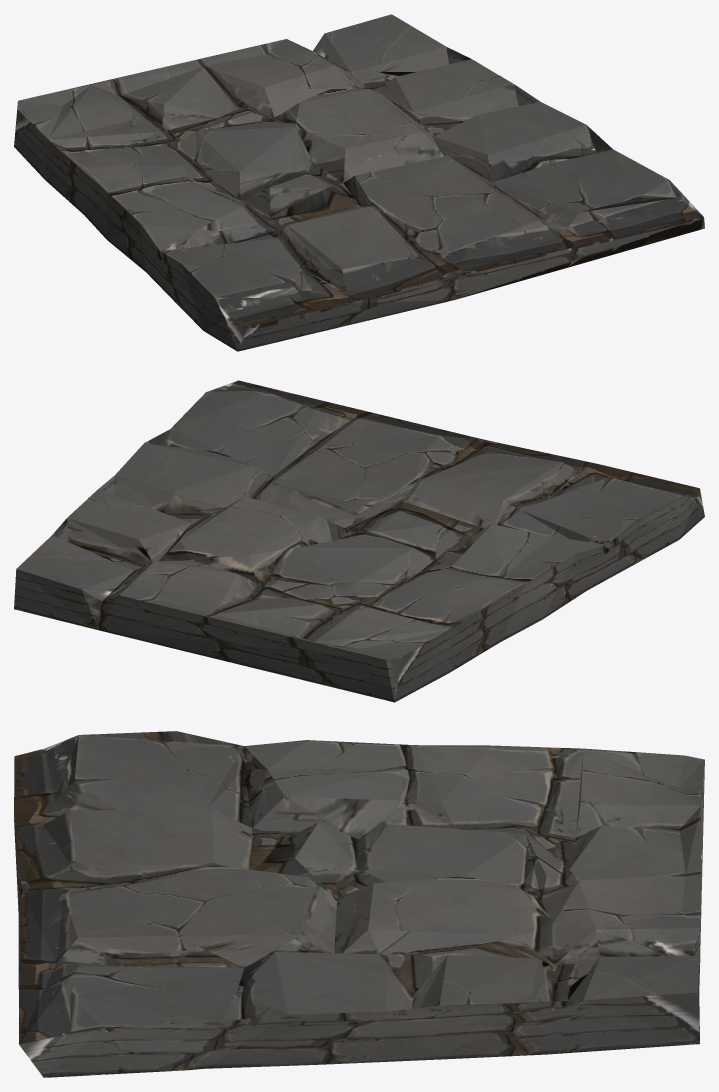
The model's file is SM_Dungeon_Floor_A_LOD2.glb.
3 renders of one model, top to bottom at view 1: azimuth 30°, elevation 25°; view 2: azimuth 150°, elevation 25°; view 3: azimuth 270°, elevation 25°, orthographic. The views are drawn at different scales.
Parts seen in each view (by area): view 1: SM_Dungeon_Floor_A_LOD2; view 2: SM_Dungeon_Floor_A_LOD2; view 3: SM_Dungeon_Floor_A_LOD2.
Part boxes in pixels (x1,y1,x2,y2): SM_Dungeon_Floor_A_LOD2: [14, 14, 704, 351]; SM_Dungeon_Floor_A_LOD2: [14, 380, 704, 702]; SM_Dungeon_Floor_A_LOD2: [14, 731, 704, 1077].
Size of the model in its own units: 4.04 by 0.3544 by 3.95.
Materials: 1 (1 with a texture image).
